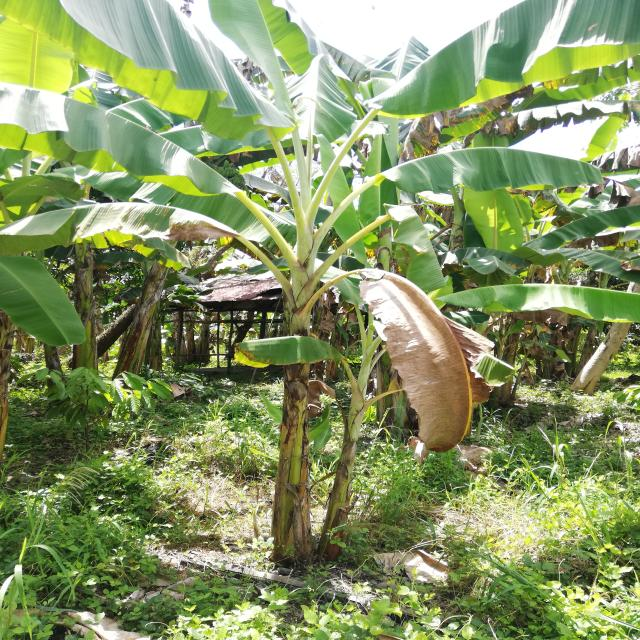Banana-plant: (256, 191, 318, 572), (112, 240, 198, 424), (321, 362, 395, 556), (55, 175, 98, 437)
